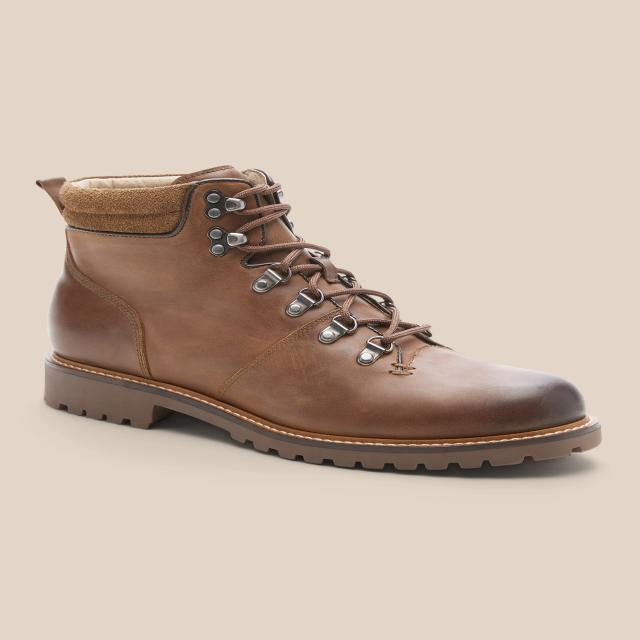boot: (20, 149, 616, 489)
